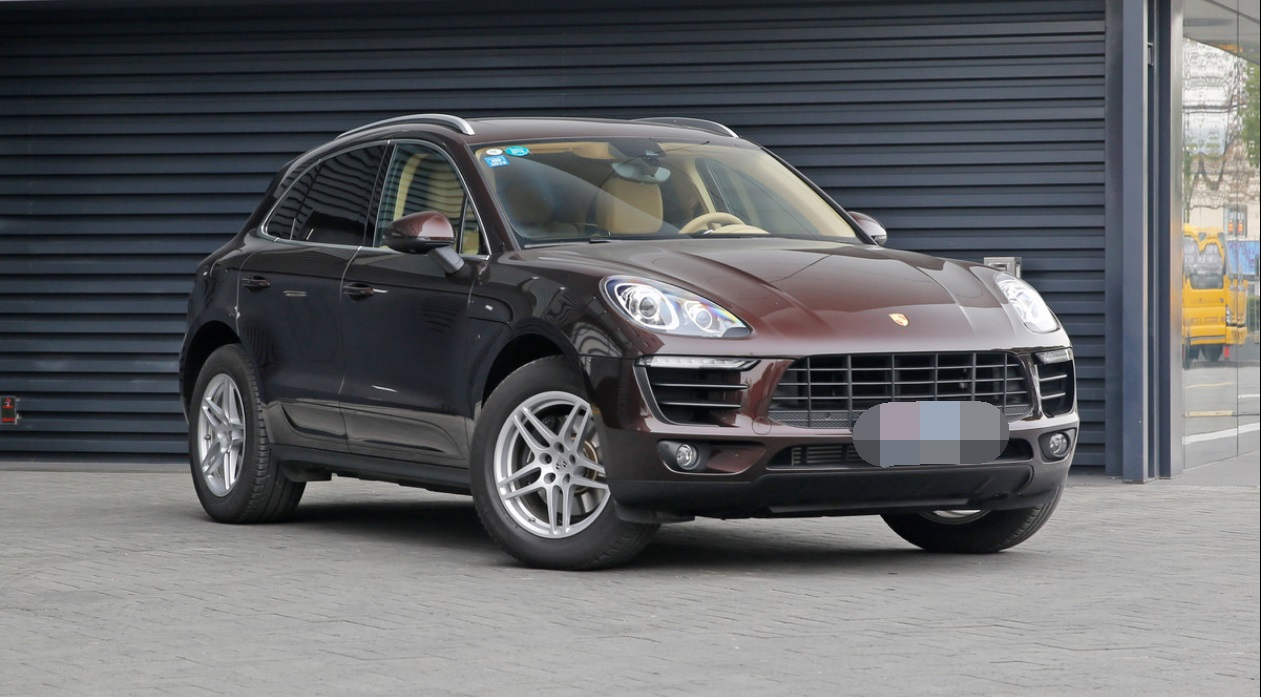SUV: (175, 106, 1084, 580)
